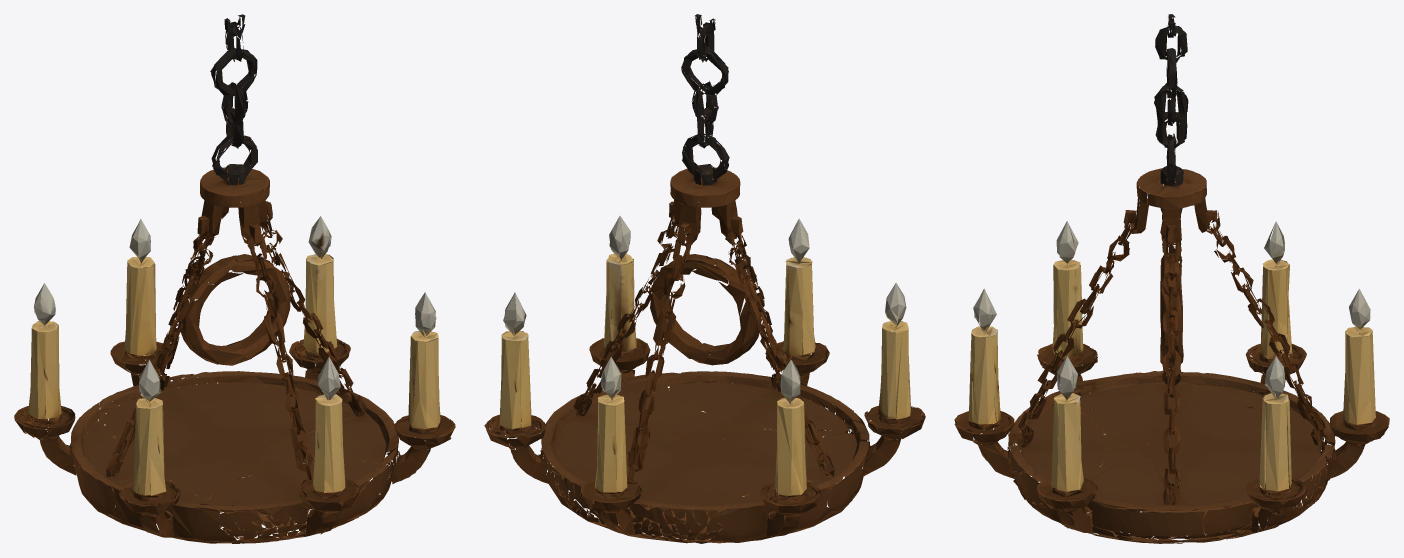
The model's file is chandelier.glb.
3 views of the same model, side by side, from view 1: azimuth 30°, elevation 25°; view 2: azimuth 150°, elevation 25°; view 3: azimuth 270°, elevation 25° (orthographic).
Parts seen in each view (by area): view 1: material; view 2: material; view 3: material.
Boxes of the visible parts, left/top/right/bottom form: material: left=14, top=14, right=455, bottom=543; material: left=484, top=14, right=925, bottom=543; material: left=954, top=14, right=1389, bottom=543.
Bounding box in the file's own units: 0.6298 × 0.9199 × 0.7257.
1 material, 1 textured.
